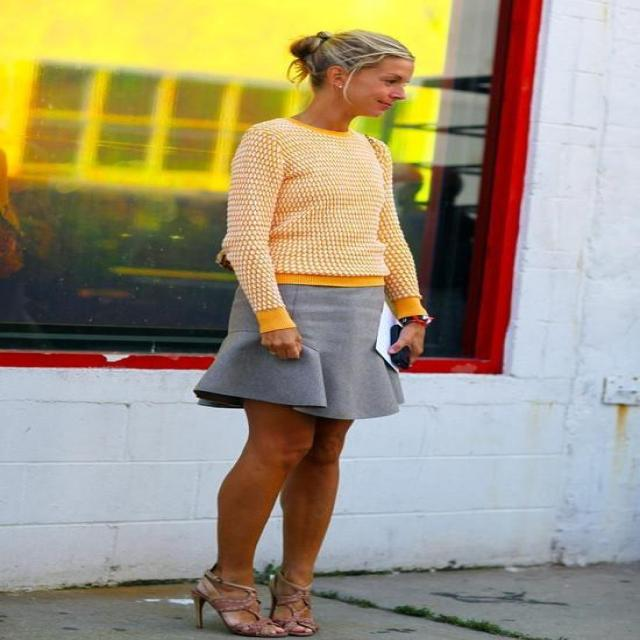skirt: (194, 272, 404, 419)
sweater: (222, 116, 432, 334)
